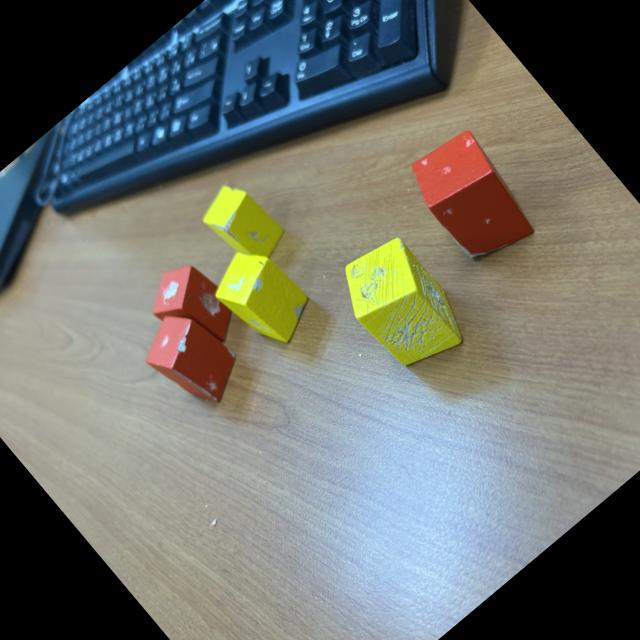broken: (324, 223, 481, 385), (396, 118, 548, 276), (202, 232, 324, 360), (131, 296, 252, 421), (135, 248, 250, 368), (190, 170, 293, 276)
